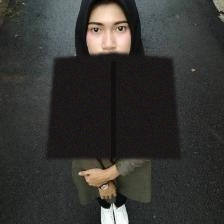Cadar_Niqab: (45, 0, 180, 158)
